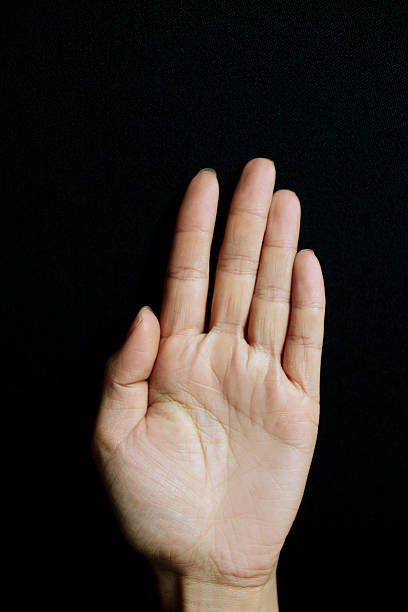hand: (78, 137, 354, 601)
